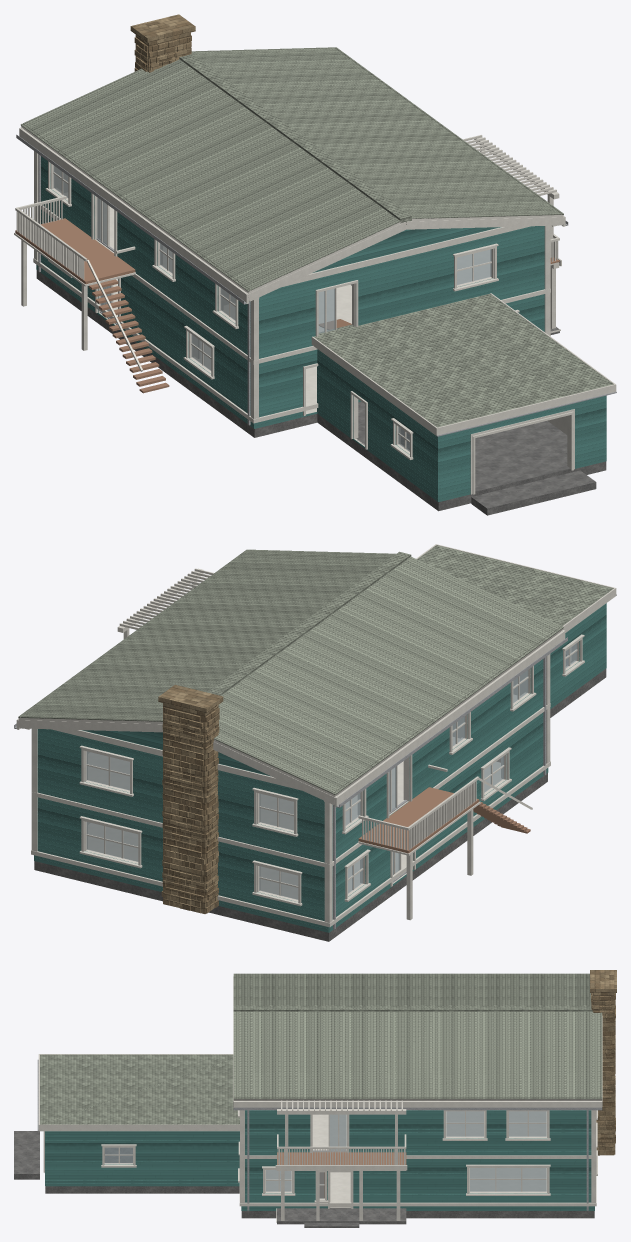
The model's file is house-teal-shell.glb.
3 views of the same model, one above another, from view 1: azimuth 30°, elevation 25°; view 2: azimuth 150°, elevation 25°; view 3: azimuth 270°, elevation 25° (orthographic). The views are drawn at different scales.
Visible parts, largest first — view 1: world-studio.house.teal.shell.shingle, world-studio.house.teal.shell.siding, world-studio.house.teal.shell.trim, world-studio.house.teal.shell.concrete, world-studio.house.teal.shell.door, world-studio.house.teal.shell.glass, world-studio.house.teal.shell.masonry, world-studio.house.teal.shell.metal; view 2: world-studio.house.teal.shell.shingle, world-studio.house.teal.shell.siding, world-studio.house.teal.shell.trim, world-studio.house.teal.shell.masonry, world-studio.house.teal.shell.glass, world-studio.house.teal.shell.concrete, world-studio.house.teal.shell.door, world-studio.house.teal.shell.metal; view 3: world-studio.house.teal.shell.shingle, world-studio.house.teal.shell.siding, world-studio.house.teal.shell.trim, world-studio.house.teal.shell.concrete, world-studio.house.teal.shell.glass, world-studio.house.teal.shell.masonry, world-studio.house.teal.shell.metal, world-studio.house.teal.shell.door.
Part boxes in pixels (x1,y1,x2,y2): world-studio.house.teal.shell.shingle: (20, 47, 613, 427); world-studio.house.teal.shell.siding: (36, 156, 606, 501); world-studio.house.teal.shell.trim: (14, 126, 616, 494); world-studio.house.teal.shell.concrete: (36, 270, 606, 515); world-studio.house.teal.shell.door: (15, 218, 559, 393); world-studio.house.teal.shell.glass: (53, 166, 491, 451); world-studio.house.teal.shell.masonry: (130, 14, 195, 72); world-studio.house.teal.shell.metal: (16, 134, 616, 436); world-studio.house.teal.shell.shingle: (18, 545, 613, 794); world-studio.house.teal.shell.siding: (34, 603, 606, 932); world-studio.house.teal.shell.trim: (16, 544, 616, 927); world-studio.house.teal.shell.masonry: (158, 684, 223, 913); world-studio.house.teal.shell.glass: (86, 643, 577, 899); world-studio.house.teal.shell.concrete: (34, 651, 606, 941); world-studio.house.teal.shell.door: (358, 758, 530, 853); world-studio.house.teal.shell.metal: (14, 594, 616, 929); world-studio.house.teal.shell.shingle: (40, 973, 602, 1124); world-studio.house.teal.shell.siding: (45, 1110, 594, 1210); world-studio.house.teal.shell.trim: (38, 976, 602, 1222); world-studio.house.teal.shell.concrete: (14, 1131, 594, 1227); world-studio.house.teal.shell.glass: (105, 1111, 546, 1198); world-studio.house.teal.shell.masonry: (590, 970, 616, 1155); world-studio.house.teal.shell.metal: (37, 1059, 602, 1210); world-studio.house.teal.shell.door: (277, 1152, 406, 1198).
Size of the model in its own units: 18.49 by 9.84 by 30.74.
8 materials, 6 textured.
